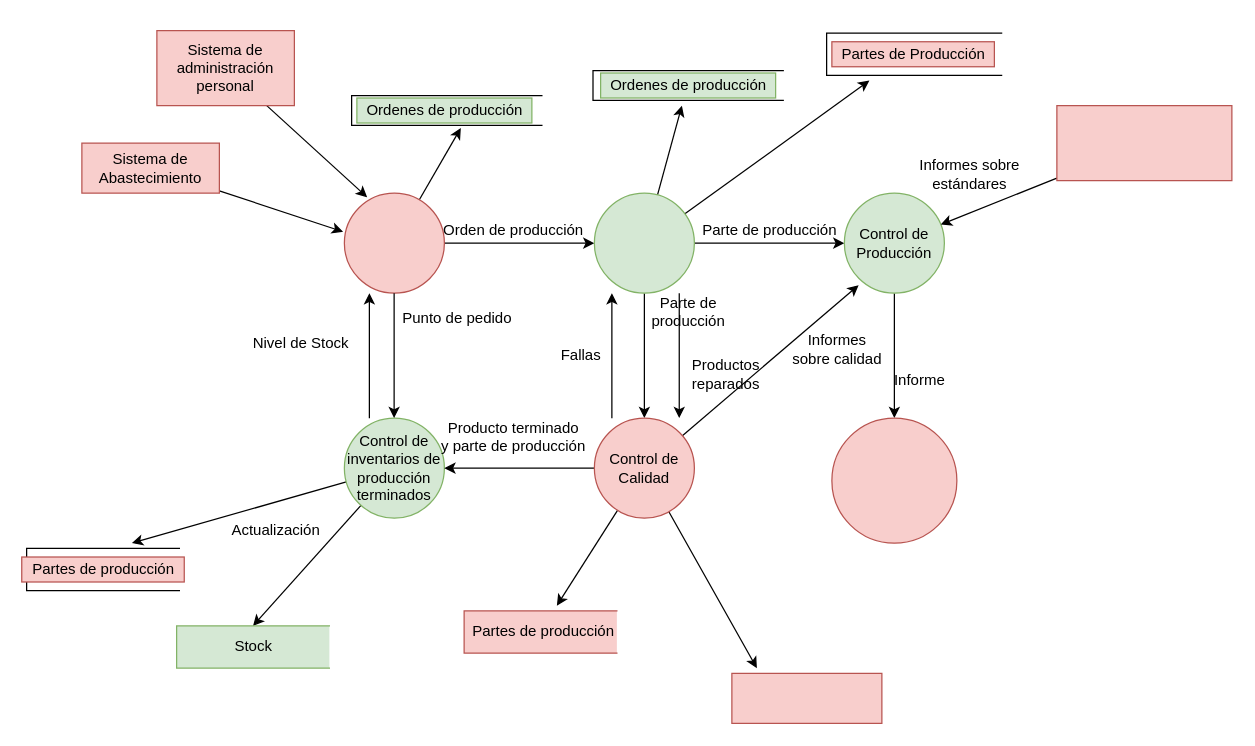
Some shapes in this 1255 by 746 pixel diagram are drawn without their labels. The box of each missing label's shape, as (x1, y1, x2, y2) in pixels:
Desechos: (731, 672, 882, 723)
Determinación de Costos: (831, 417, 957, 543)
Fabricación: (593, 192, 694, 293)
Investigación y desarrollo: (1056, 104, 1232, 181)
Planificación de la producción: (343, 192, 444, 293)
